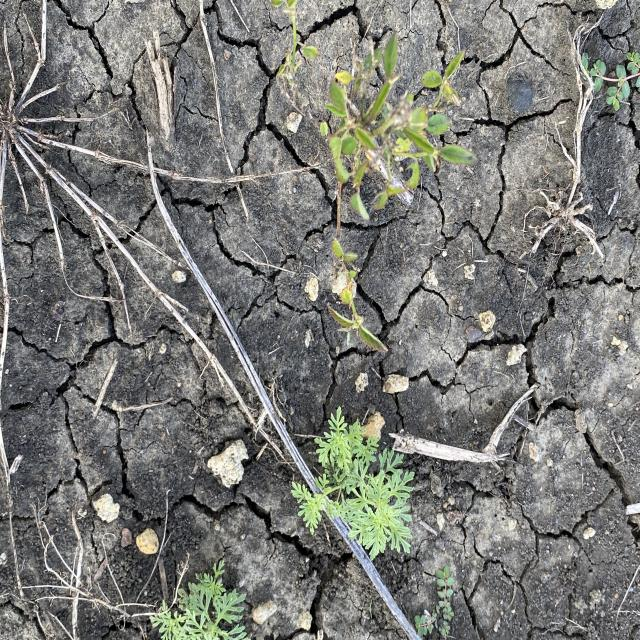PricklySida: (317, 24, 481, 359)
Ragweed: (288, 406, 416, 562), (148, 558, 250, 640)
SpottedSpurge: (576, 40, 640, 111), (412, 562, 458, 639)
